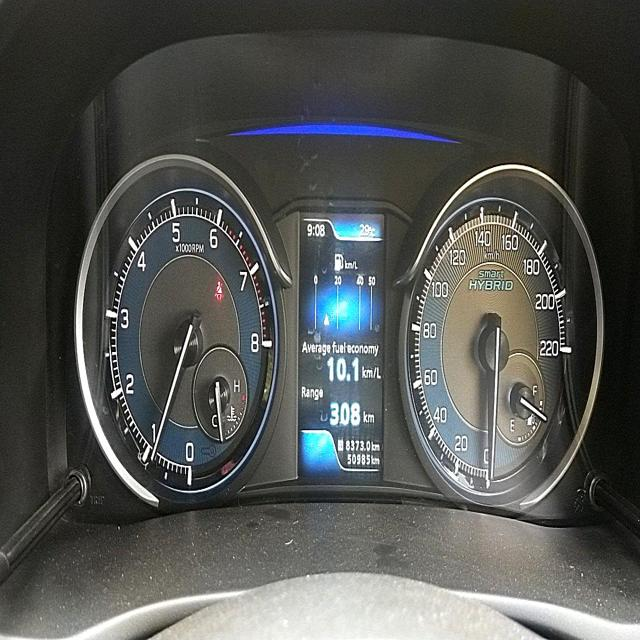odometer: (347, 452, 371, 467)
